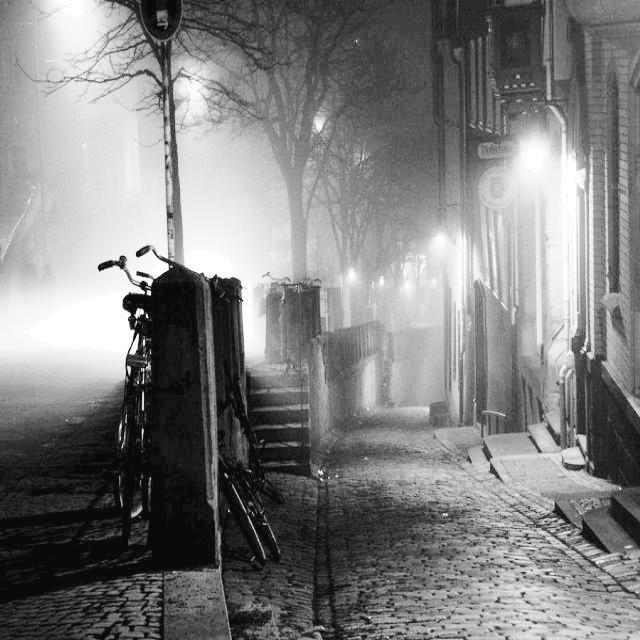Bicycle: (80, 235, 165, 550), (205, 419, 282, 577)
